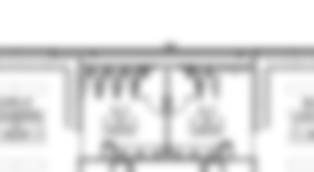door: (145, 95, 165, 115), (170, 96, 188, 115), (199, 80, 217, 98), (81, 82, 98, 99), (99, 82, 116, 99), (117, 82, 134, 97)
